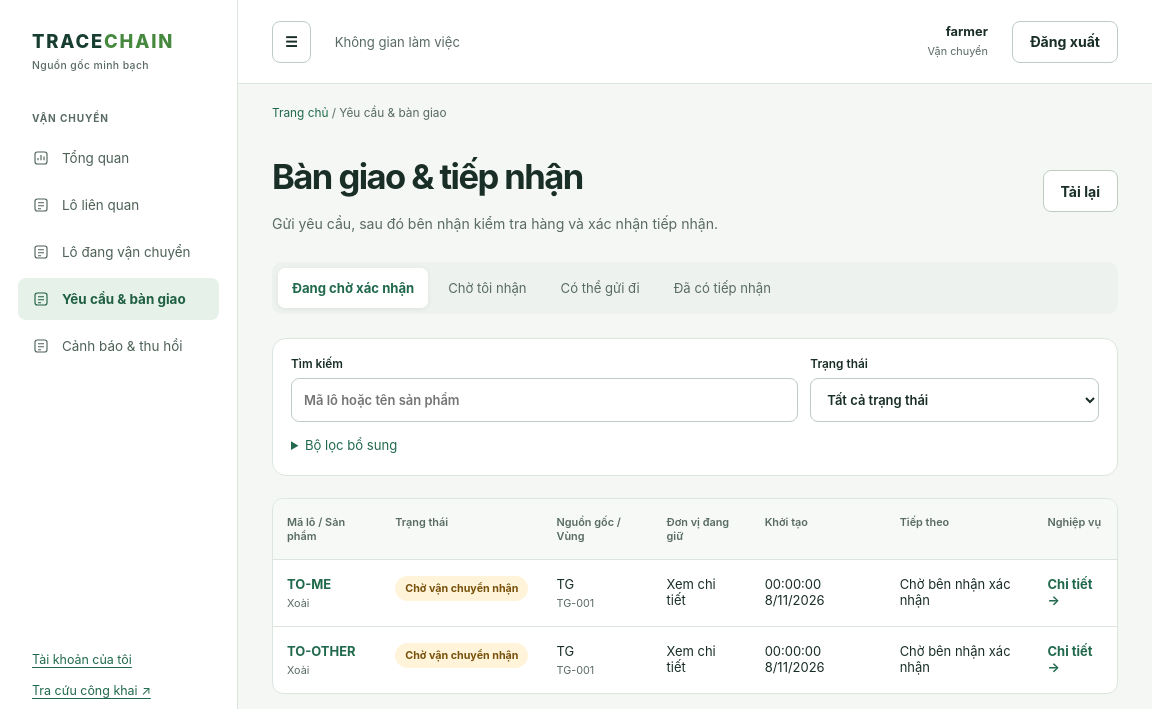
filters pending handovers by the actual receiving organization
Expected: the link "TO-ME" is shown, left=287, top=576, right=331, bottom=592
Expected: the link "TO-OTHER" is shown, left=287, top=642, right=356, bottom=658
Click the button "Chờ tôi nhận": (487, 288) left=434, top=268, right=540, bottom=308
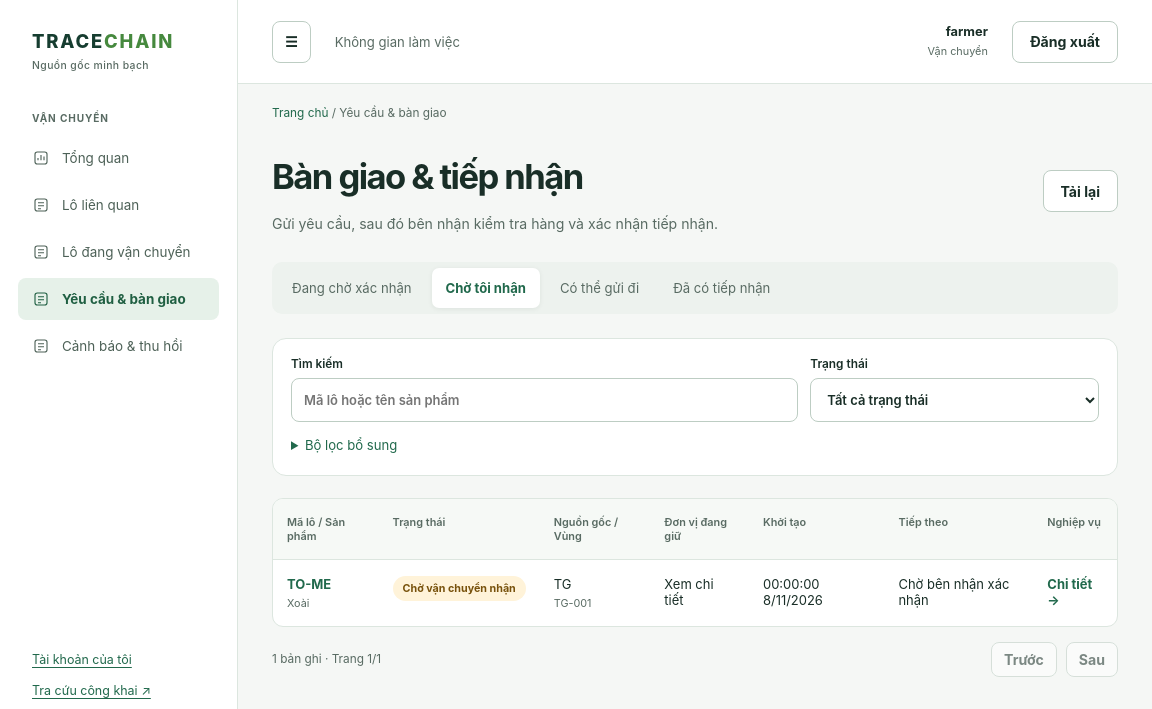
Expected: the link "TO-ME" is shown, left=287, top=576, right=331, bottom=592
Now the link "TO-OTHER" is gone
